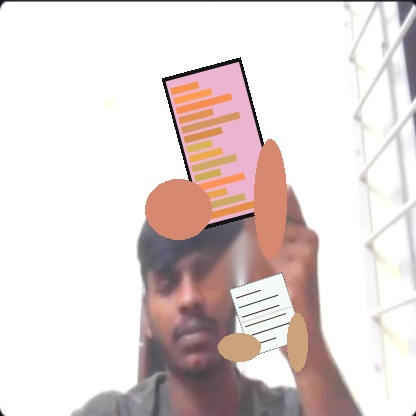cell_phone: (162, 57, 281, 229)
cheat_chit: (229, 272, 304, 356)
